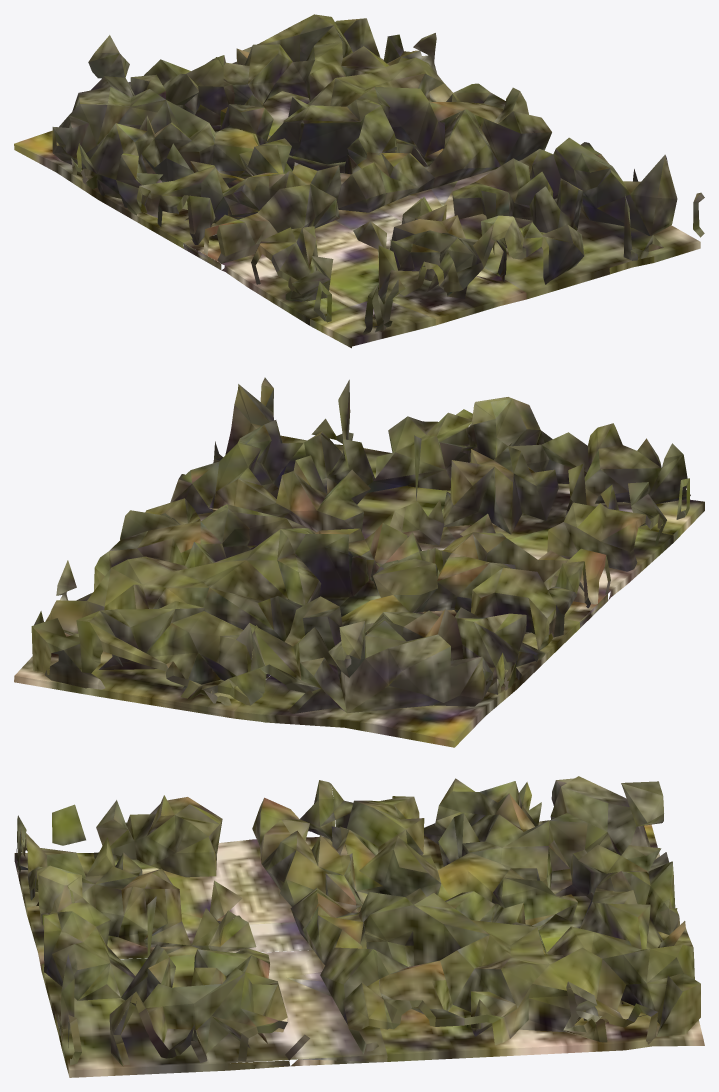
3 renders of one model, top to bottom at view 1: azimuth 30°, elevation 25°; view 2: azimuth 150°, elevation 25°; view 3: azimuth 270°, elevation 25°, orthographic. The views are drawn at different scales.
Visible parts, largest first — view 1: Mesh_0; view 2: Mesh_0; view 3: Mesh_0.
Part boxes in pixels (bbox=[...]): Mesh_0: bbox=[14, 14, 704, 348]; Mesh_0: bbox=[14, 377, 704, 747]; Mesh_0: bbox=[14, 776, 704, 1077].
Bounding box in the file's own units: 134 × 30.5 × 165.
1 material, 1 textured.
